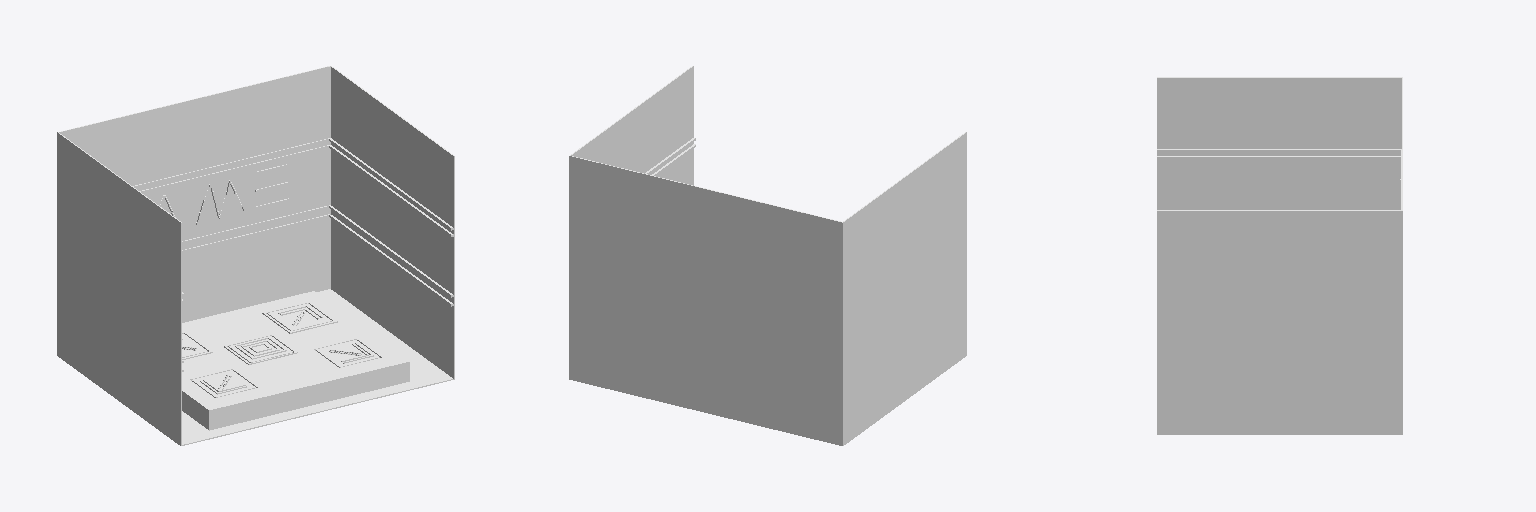
Rendered from GameZone_Last.obj.
3 views of the same model, side by side, from view 1: azimuth 30°, elevation 25°; view 2: azimuth 150°, elevation 25°; view 3: azimuth 270°, elevation 25° (orthographic).
Visible parts, largest first — view 1: object 1; view 2: object 1; view 3: object 1.
Boxes of the visible parts, x1,y1,x2,y2 form: object 1: [57, 66, 454, 445]; object 1: [569, 66, 966, 445]; object 1: [1157, 77, 1402, 434].
Bounding box in the file's own units: 25.6 × 20 × 20.